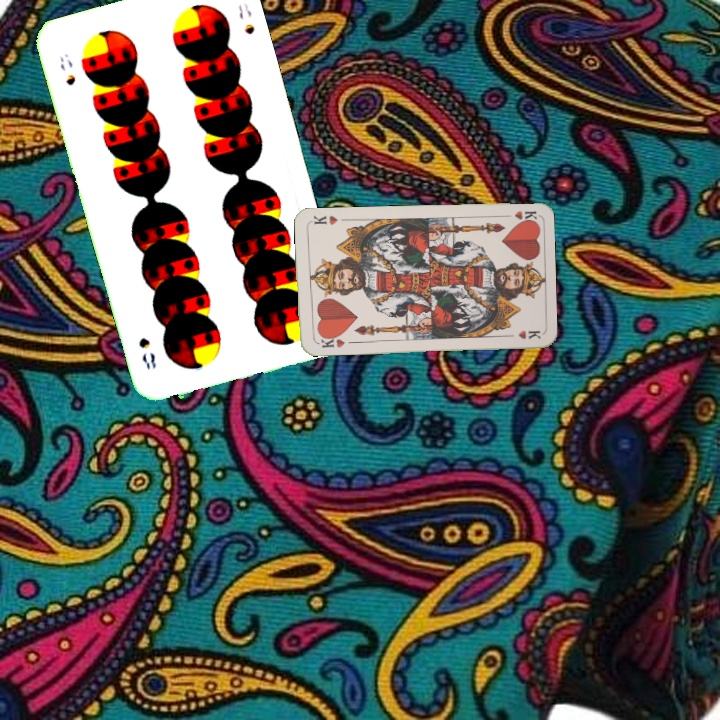HK: (497, 207, 538, 225), (312, 331, 347, 350)
S8: (56, 49, 79, 88)
